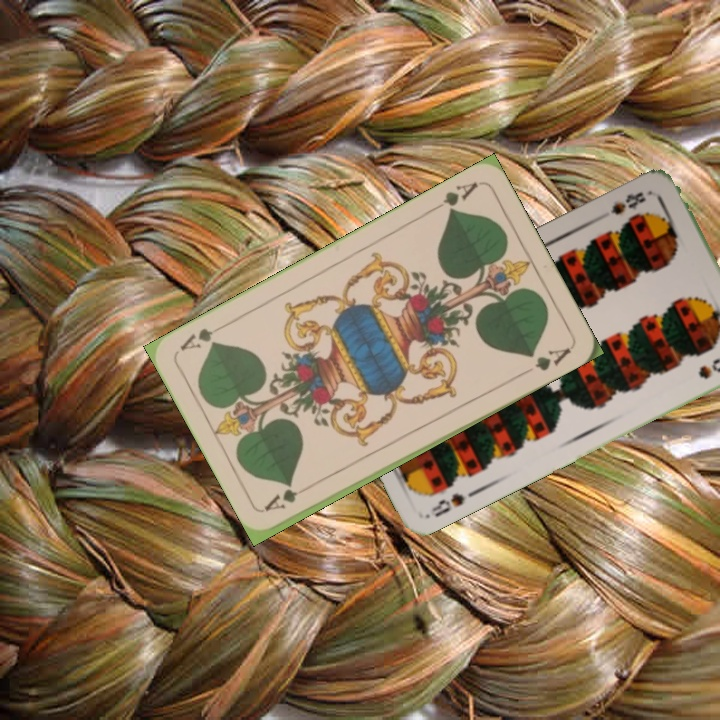GA: (438, 177, 481, 216), (261, 486, 300, 514)
S8: (427, 488, 468, 520), (607, 188, 649, 218)
